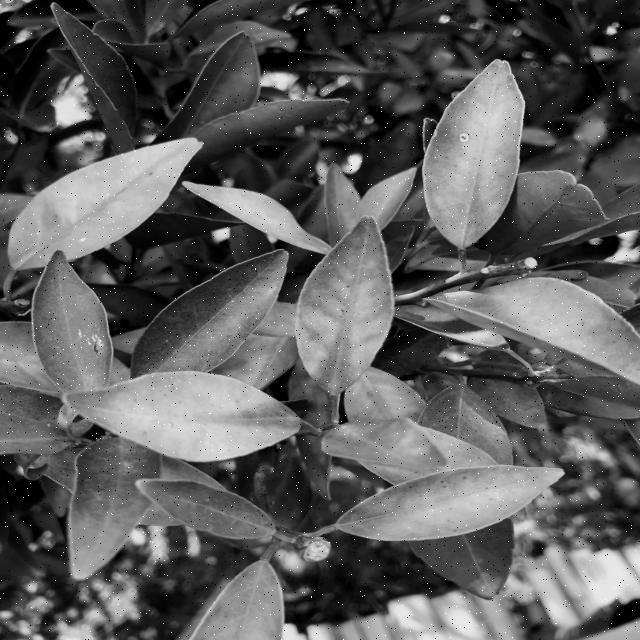blackspot: (336, 461, 547, 555), (8, 147, 182, 256), (82, 378, 286, 460), (294, 230, 404, 382), (437, 98, 512, 232), (464, 355, 556, 429), (204, 580, 282, 640), (344, 381, 425, 421)
